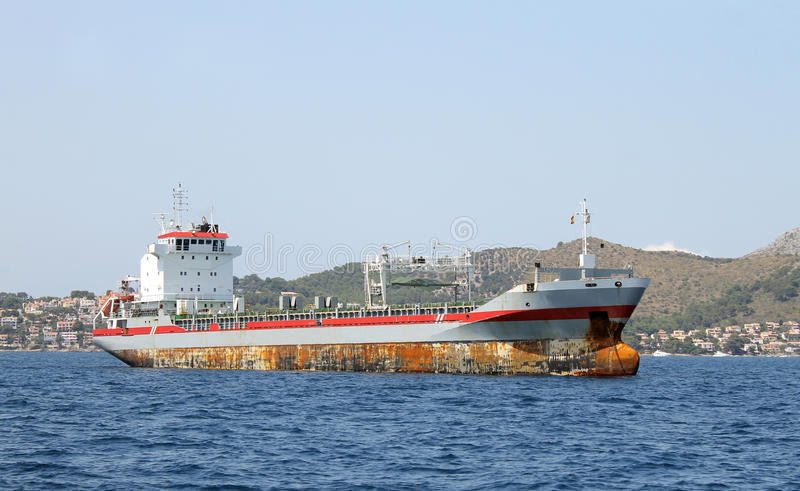rust: (166, 349, 557, 372)
